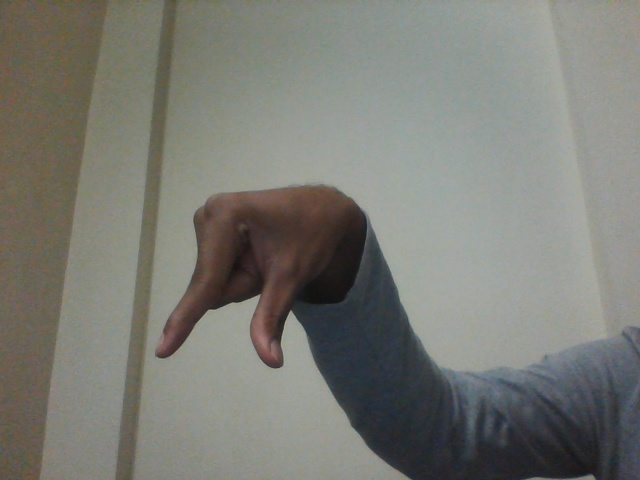q: (145, 179, 351, 396)
